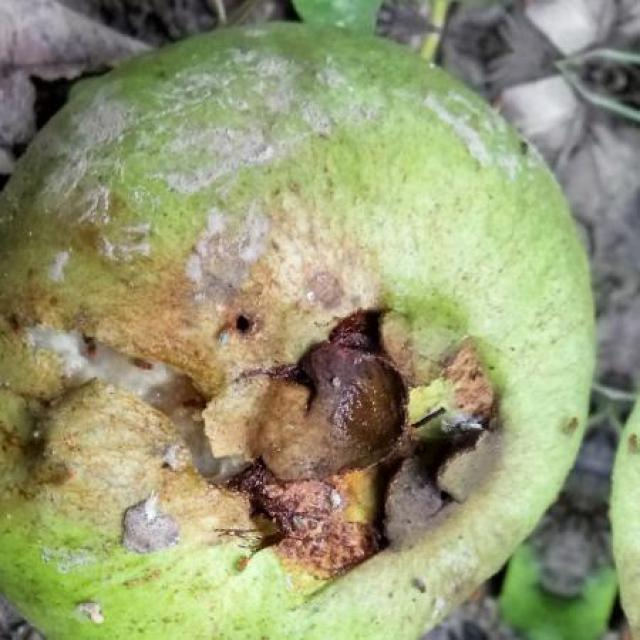Styler and Root: (0, 24, 594, 640)
